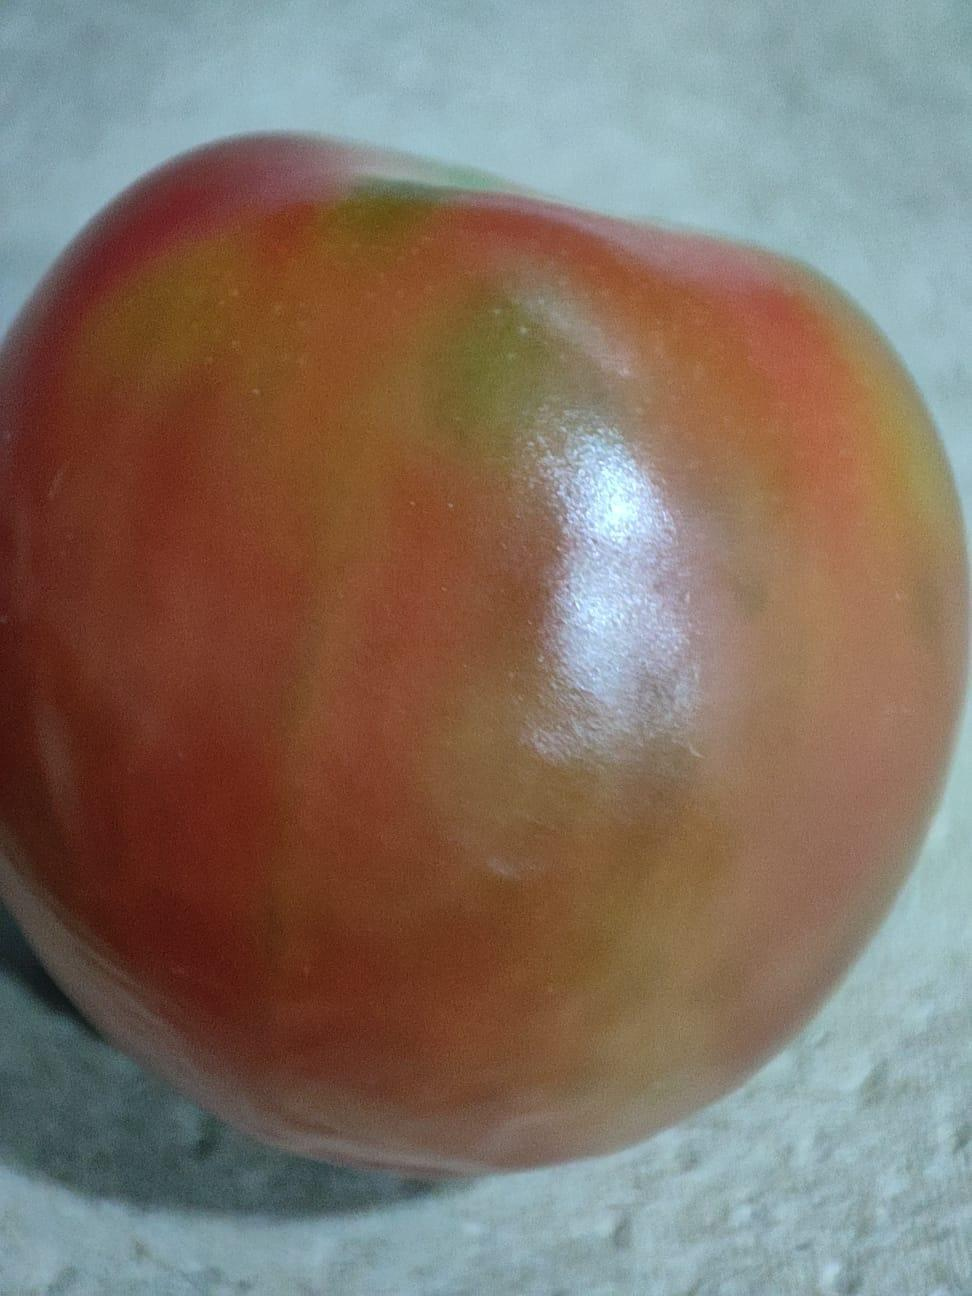Tomate: (0, 131, 966, 1176)
